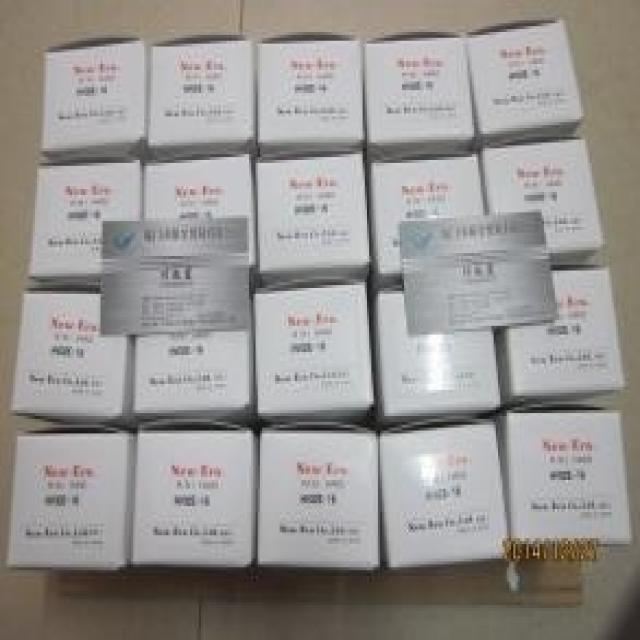box: (376, 410, 514, 569), (370, 271, 503, 426), (492, 263, 628, 411), (254, 414, 383, 569), (4, 417, 130, 572), (130, 419, 255, 566), (9, 278, 136, 421), (479, 127, 607, 265), (253, 274, 375, 418), (503, 409, 633, 542), (366, 143, 491, 273), (29, 147, 146, 280), (465, 19, 588, 141), (257, 146, 369, 277), (143, 145, 260, 266), (364, 36, 478, 150), (255, 39, 368, 151), (147, 39, 257, 148), (44, 41, 148, 152), (131, 327, 255, 420)
